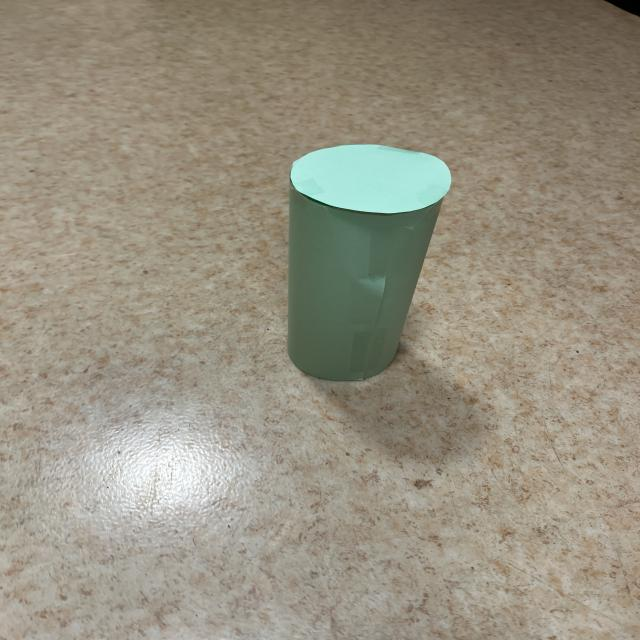meta: (288, 145, 451, 381)
